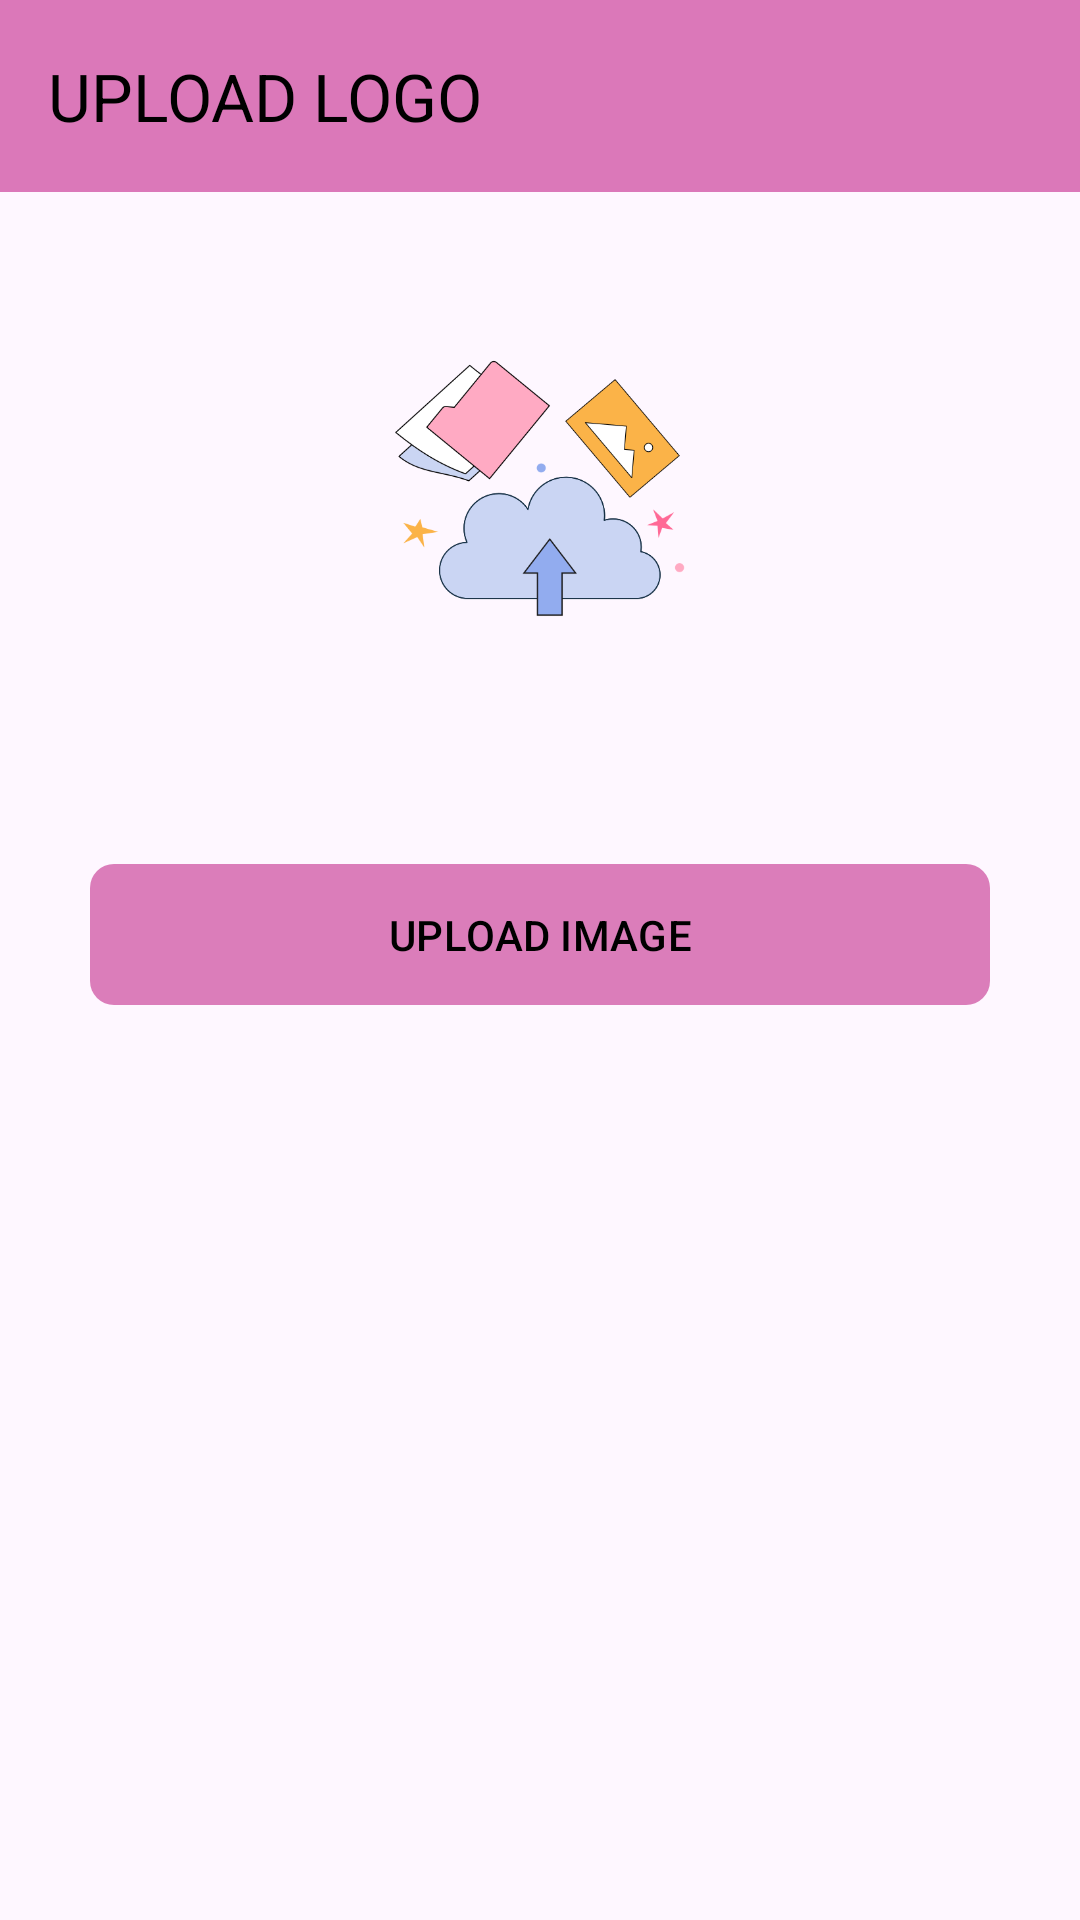

Where icons sit on this 1080*1920 app screen, as bbox(x1, y1, x2, y2):
Image for choosing from gallery: bbox(395, 361, 684, 616)
